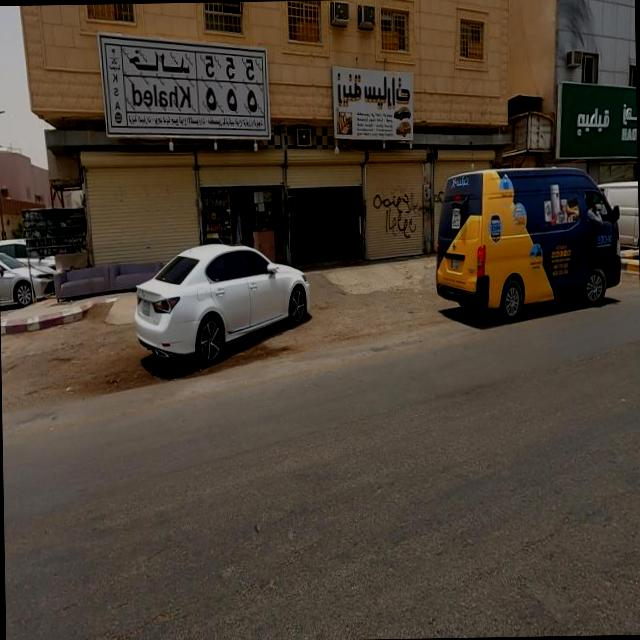debris: (334, 146, 466, 278)
